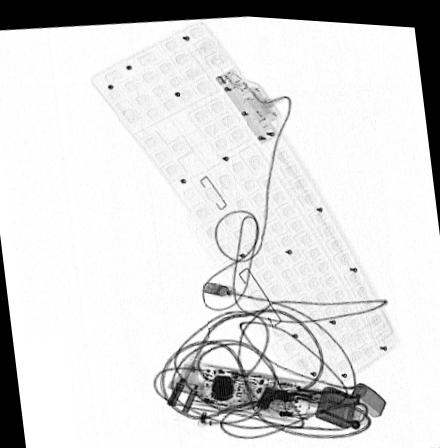Lighter: (315, 377, 387, 424)
